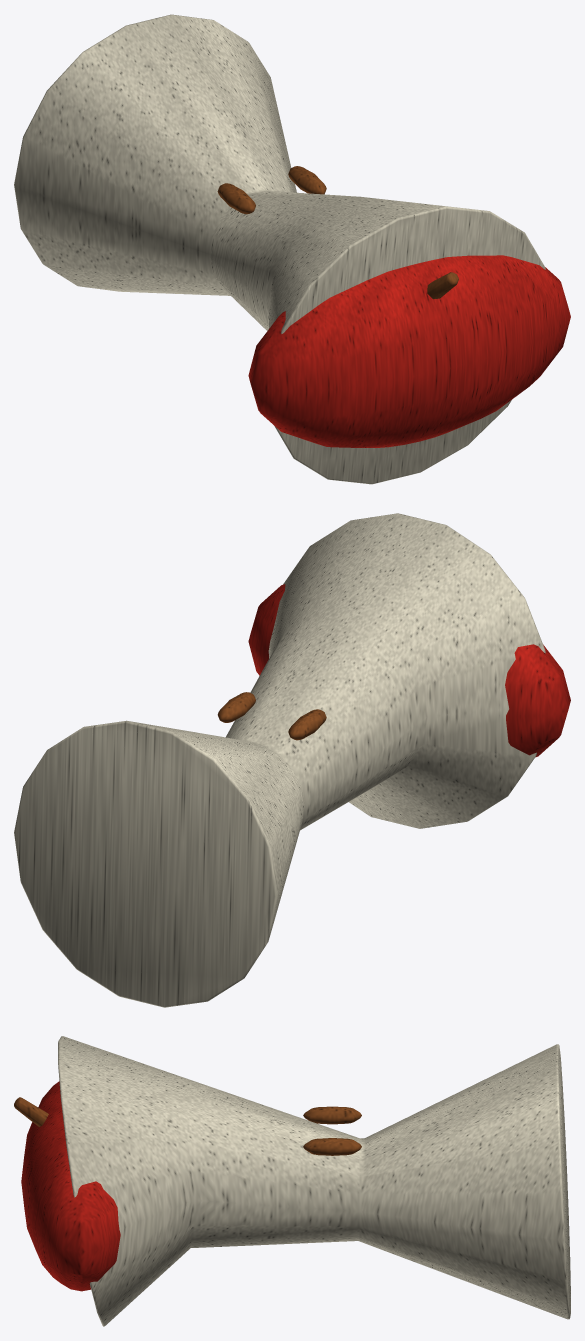
Rendered from food-05-half.glb.
The picture shows the model from 3 angles, top to bottom: view 1: azimuth 30°, elevation 25°; view 2: azimuth 150°, elevation 25°; view 3: azimuth 270°, elevation 25°; orthographic projection. The views are drawn at different scales.
Parts seen in each view (by area): view 1: Food; view 2: Food; view 3: Food.
Boxes of the visible parts, x1=… form: Food: x1=14, y1=14, x2=570, y2=484; Food: x1=14, y1=513, x2=570, y2=1007; Food: x1=14, y1=1036, x2=570, y2=1326.
Bounding box in the file's own units: 0.3586 × 0.3085 × 0.5994.
Materials: 1 (1 with a texture image).
